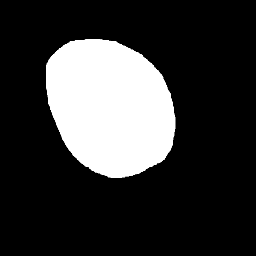mass: (53, 47, 162, 167)
